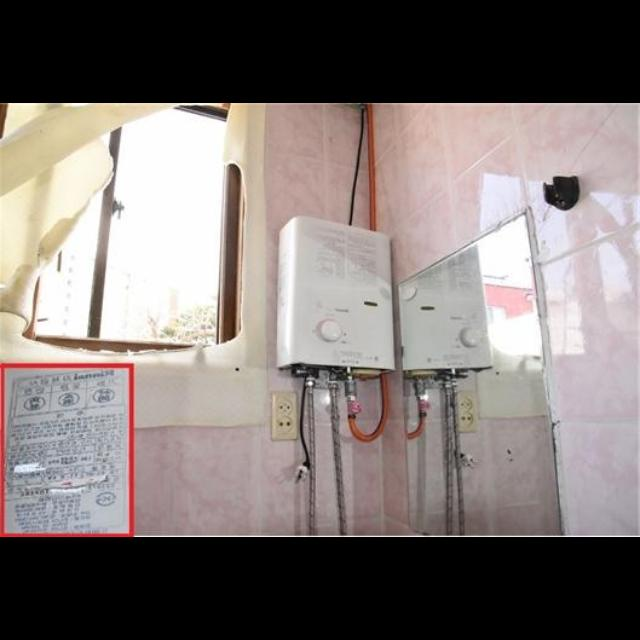Boiler: (268, 208, 402, 406)
